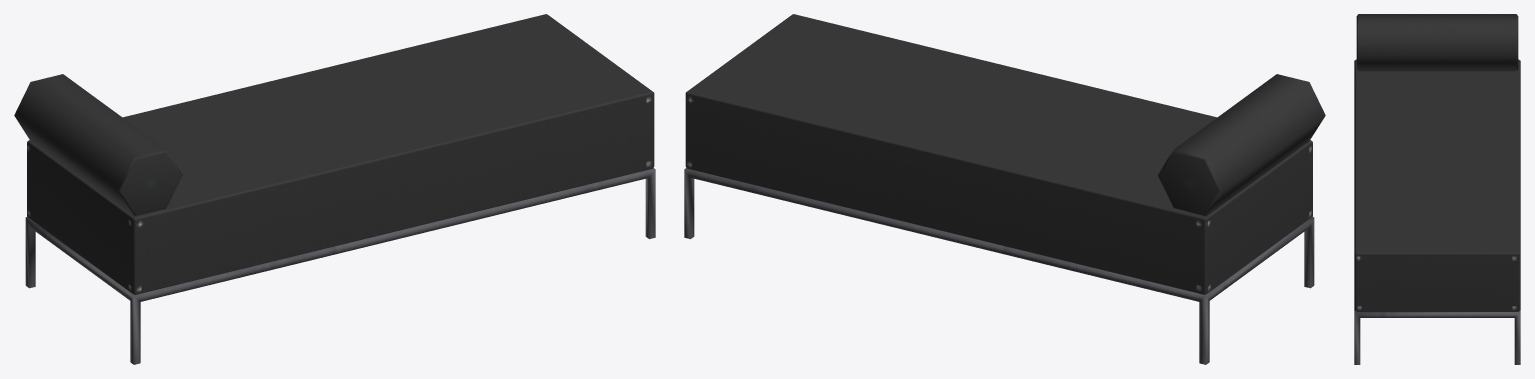
Rendered from Bench_03.glb.
3 renders of one model, left to right at view 1: azimuth 30°, elevation 25°; view 2: azimuth 150°, elevation 25°; view 3: azimuth 270°, elevation 25°, orthographic. The views are drawn at different scales.
Visible parts, largest first — view 1: Bench_03; view 2: Bench_03; view 3: Bench_03.
Part boxes in pixels (x1,y1,x2,y2): Bench_03: [14, 14, 655, 364]; Bench_03: [684, 14, 1325, 364]; Bench_03: [1354, 14, 1520, 364].
Bounding box in the file's own units: 2.05 × 0.7509 × 0.72.
1 material, 1 textured.
